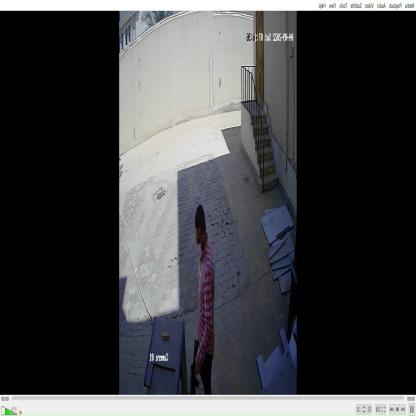handgun: (187, 336, 202, 394)
